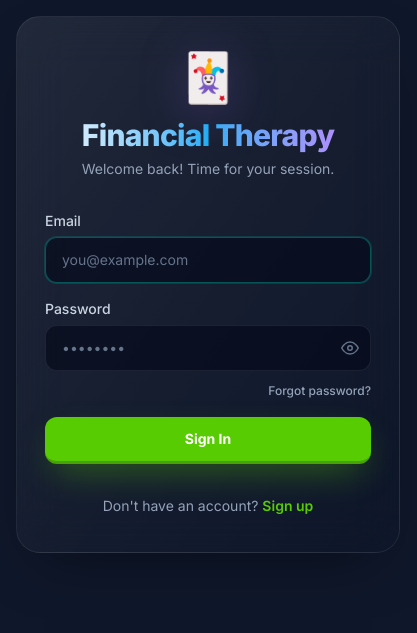
Test: LoginPage › displays error when signIn rejects
Type "bad@example.com" into the field labelled "Email" at (208, 260), box left=45, top=237, right=371, bottom=283
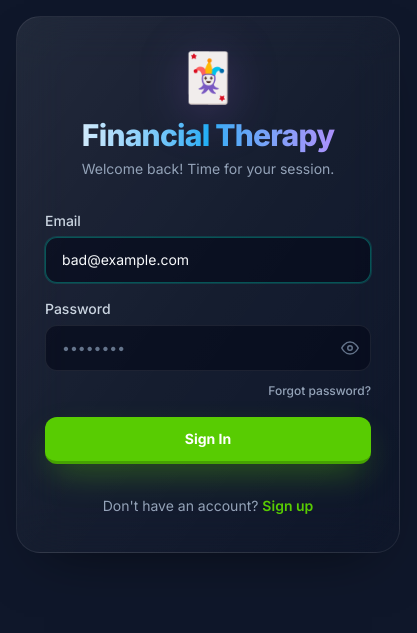
Type "wrong" into the password field labelled "Password" at (208, 348), box left=45, top=325, right=371, bottom=371
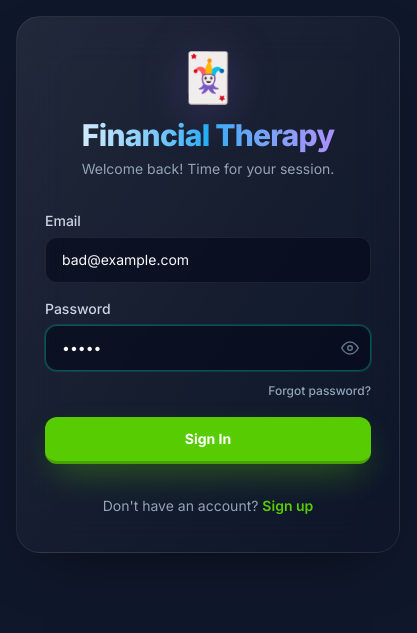
Click the button "Sign In" at (208, 440), box left=45, top=417, right=371, bottom=464
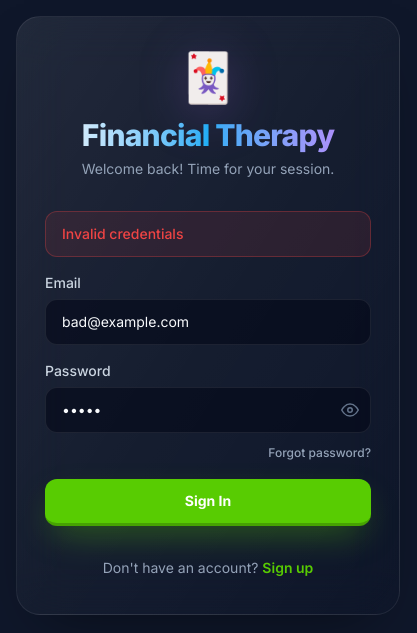
Expected: the text "Invalid credentials" is shown, left=45, top=211, right=371, bottom=257
